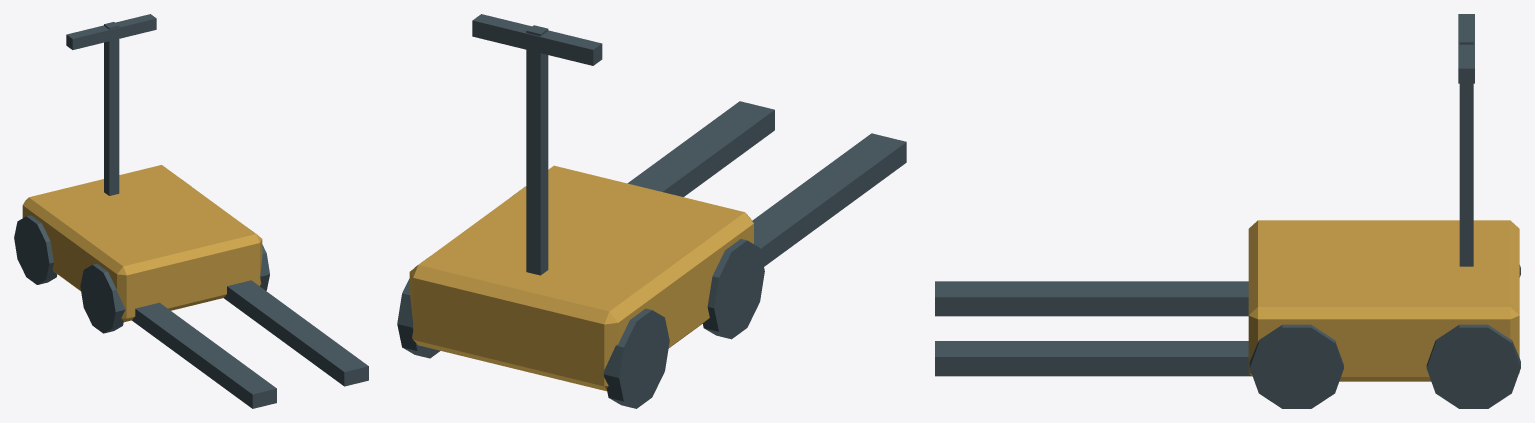
The model's file is pallet_jack.glb.
3 renders of one model, left to right at view 1: azimuth 30°, elevation 25°; view 2: azimuth 150°, elevation 25°; view 3: azimuth 270°, elevation 25°, orthographic. The views are drawn at different scales.
Parts seen in each view (by area): view 1: pallet_jack; view 2: pallet_jack; view 3: pallet_jack.
Part boxes in pixels (left/top/right/bottom): pallet_jack: left=14, top=14, right=368, bottom=408; pallet_jack: left=397, top=14, right=906, bottom=408; pallet_jack: left=935, top=14, right=1520, bottom=408.
Bounding box in the file's own units: 1.01 × 1.5 × 2.48.
